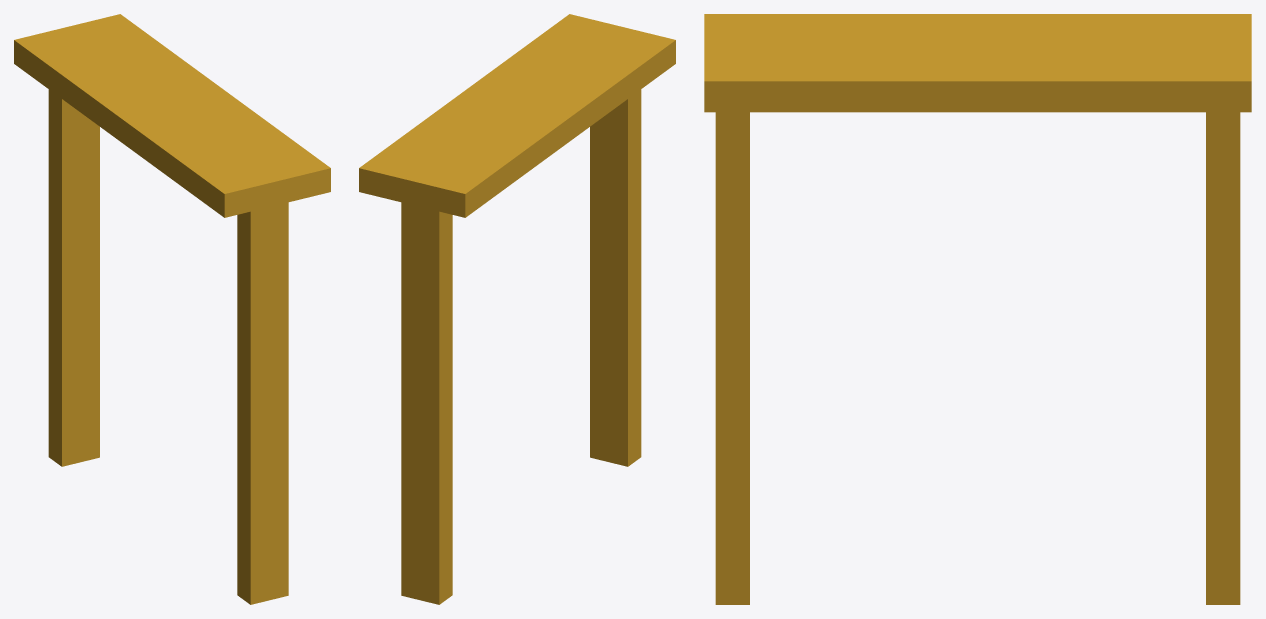
File: cement_mixer_rear_frame.glb
3 renders of one model, left to right at view 1: azimuth 30°, elevation 25°; view 2: azimuth 150°, elevation 25°; view 3: azimuth 270°, elevation 25°, orthographic. The views are drawn at different scales.
Visible parts, largest first — view 1: body:compound; view 2: body:compound; view 3: body:compound.
Part boxes in pixels (x1,y1,x2,y2): body:compound: (14, 14, 330, 604); body:compound: (359, 14, 675, 604); body:compound: (704, 14, 1251, 604).
Bounding box in the file's own units: 0.4375 × 1.66 × 1.5.
